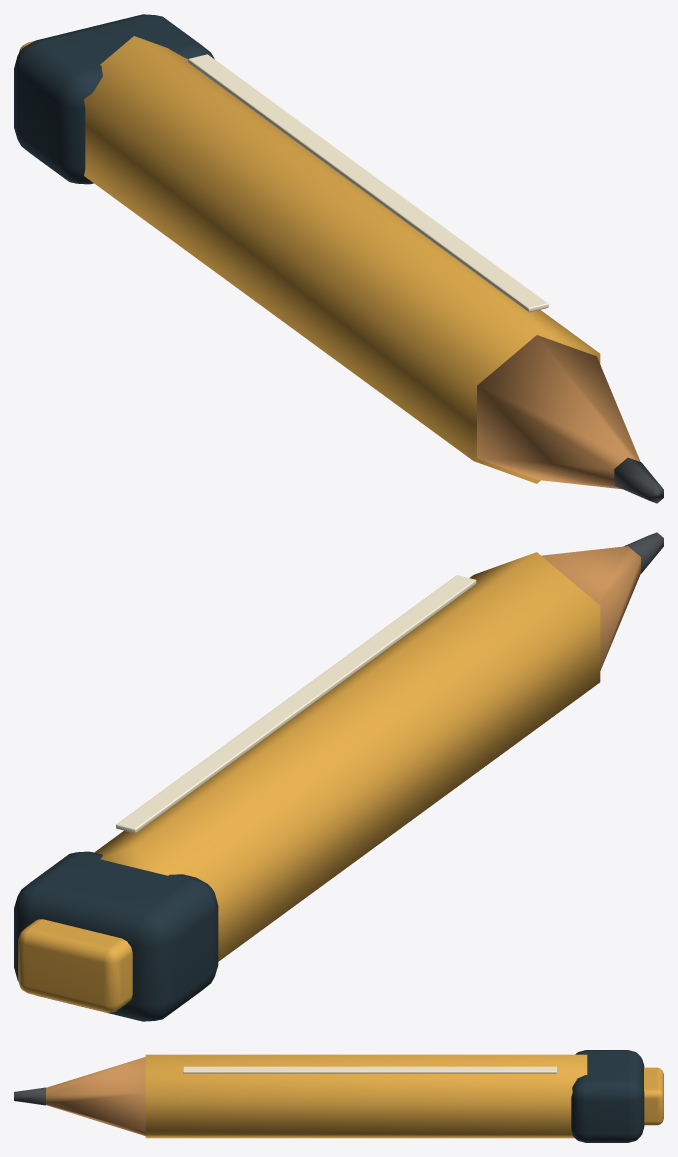
The model's file is part_pencil.glb.
3 renders of one model, top to bottom at view 1: azimuth 30°, elevation 25°; view 2: azimuth 150°, elevation 25°; view 3: azimuth 270°, elevation 25°, orthographic. The views are drawn at different scales.
Visible parts, largest first — view 1: Hexagonal lacquer, Sharpened cedar, Universal rubber mounting pad.001, Pencil paint highlight, Blunt graphite nib; view 2: Hexagonal lacquer, Universal rubber mounting pad.001, Snap-in brass tongue.001, Pencil paint highlight, Sharpened cedar, Blunt graphite nib; view 3: Hexagonal lacquer, Universal rubber mounting pad.001, Sharpened cedar, Pencil paint highlight, Snap-in brass tongue.001, Blunt graphite nib.
Part boxes in pixels (<box>): Hexagonal lacquer: <box>84,36,600,483</box>; Sharpened cedar: <box>477,335,640,489</box>; Universal rubber mounting pad.001: <box>14,14,214,184</box>; Pencil paint highlight: <box>188,54,548,312</box>; Blunt graphite nib: <box>614,457,663,503</box>; Hexagonal lacquer: <box>94,552,600,961</box>; Universal rubber mounting pad.001: <box>14,851,218,1021</box>; Snap-in brass tongue.001: <box>18,919,132,1012</box>; Pencil paint highlight: <box>116,575,476,833</box>; Sharpened cedar: <box>541,546,640,670</box>; Blunt graphite nib: <box>623,532,663,573</box>; Hexagonal lacquer: <box>145,1054,587,1138</box>; Universal rubber mounting pad.001: <box>571,1050,644,1142</box>; Sharpened cedar: <box>46,1057,145,1135</box>; Pencil paint highlight: <box>183,1066,556,1073</box>; Snap-in brass tongue.001: <box>644,1067,663,1125</box>; Blunt graphite nib: <box>14,1087,45,1105</box>.
Size of the model in its own units: 0.0056 by 0.0052 by 0.0365.
